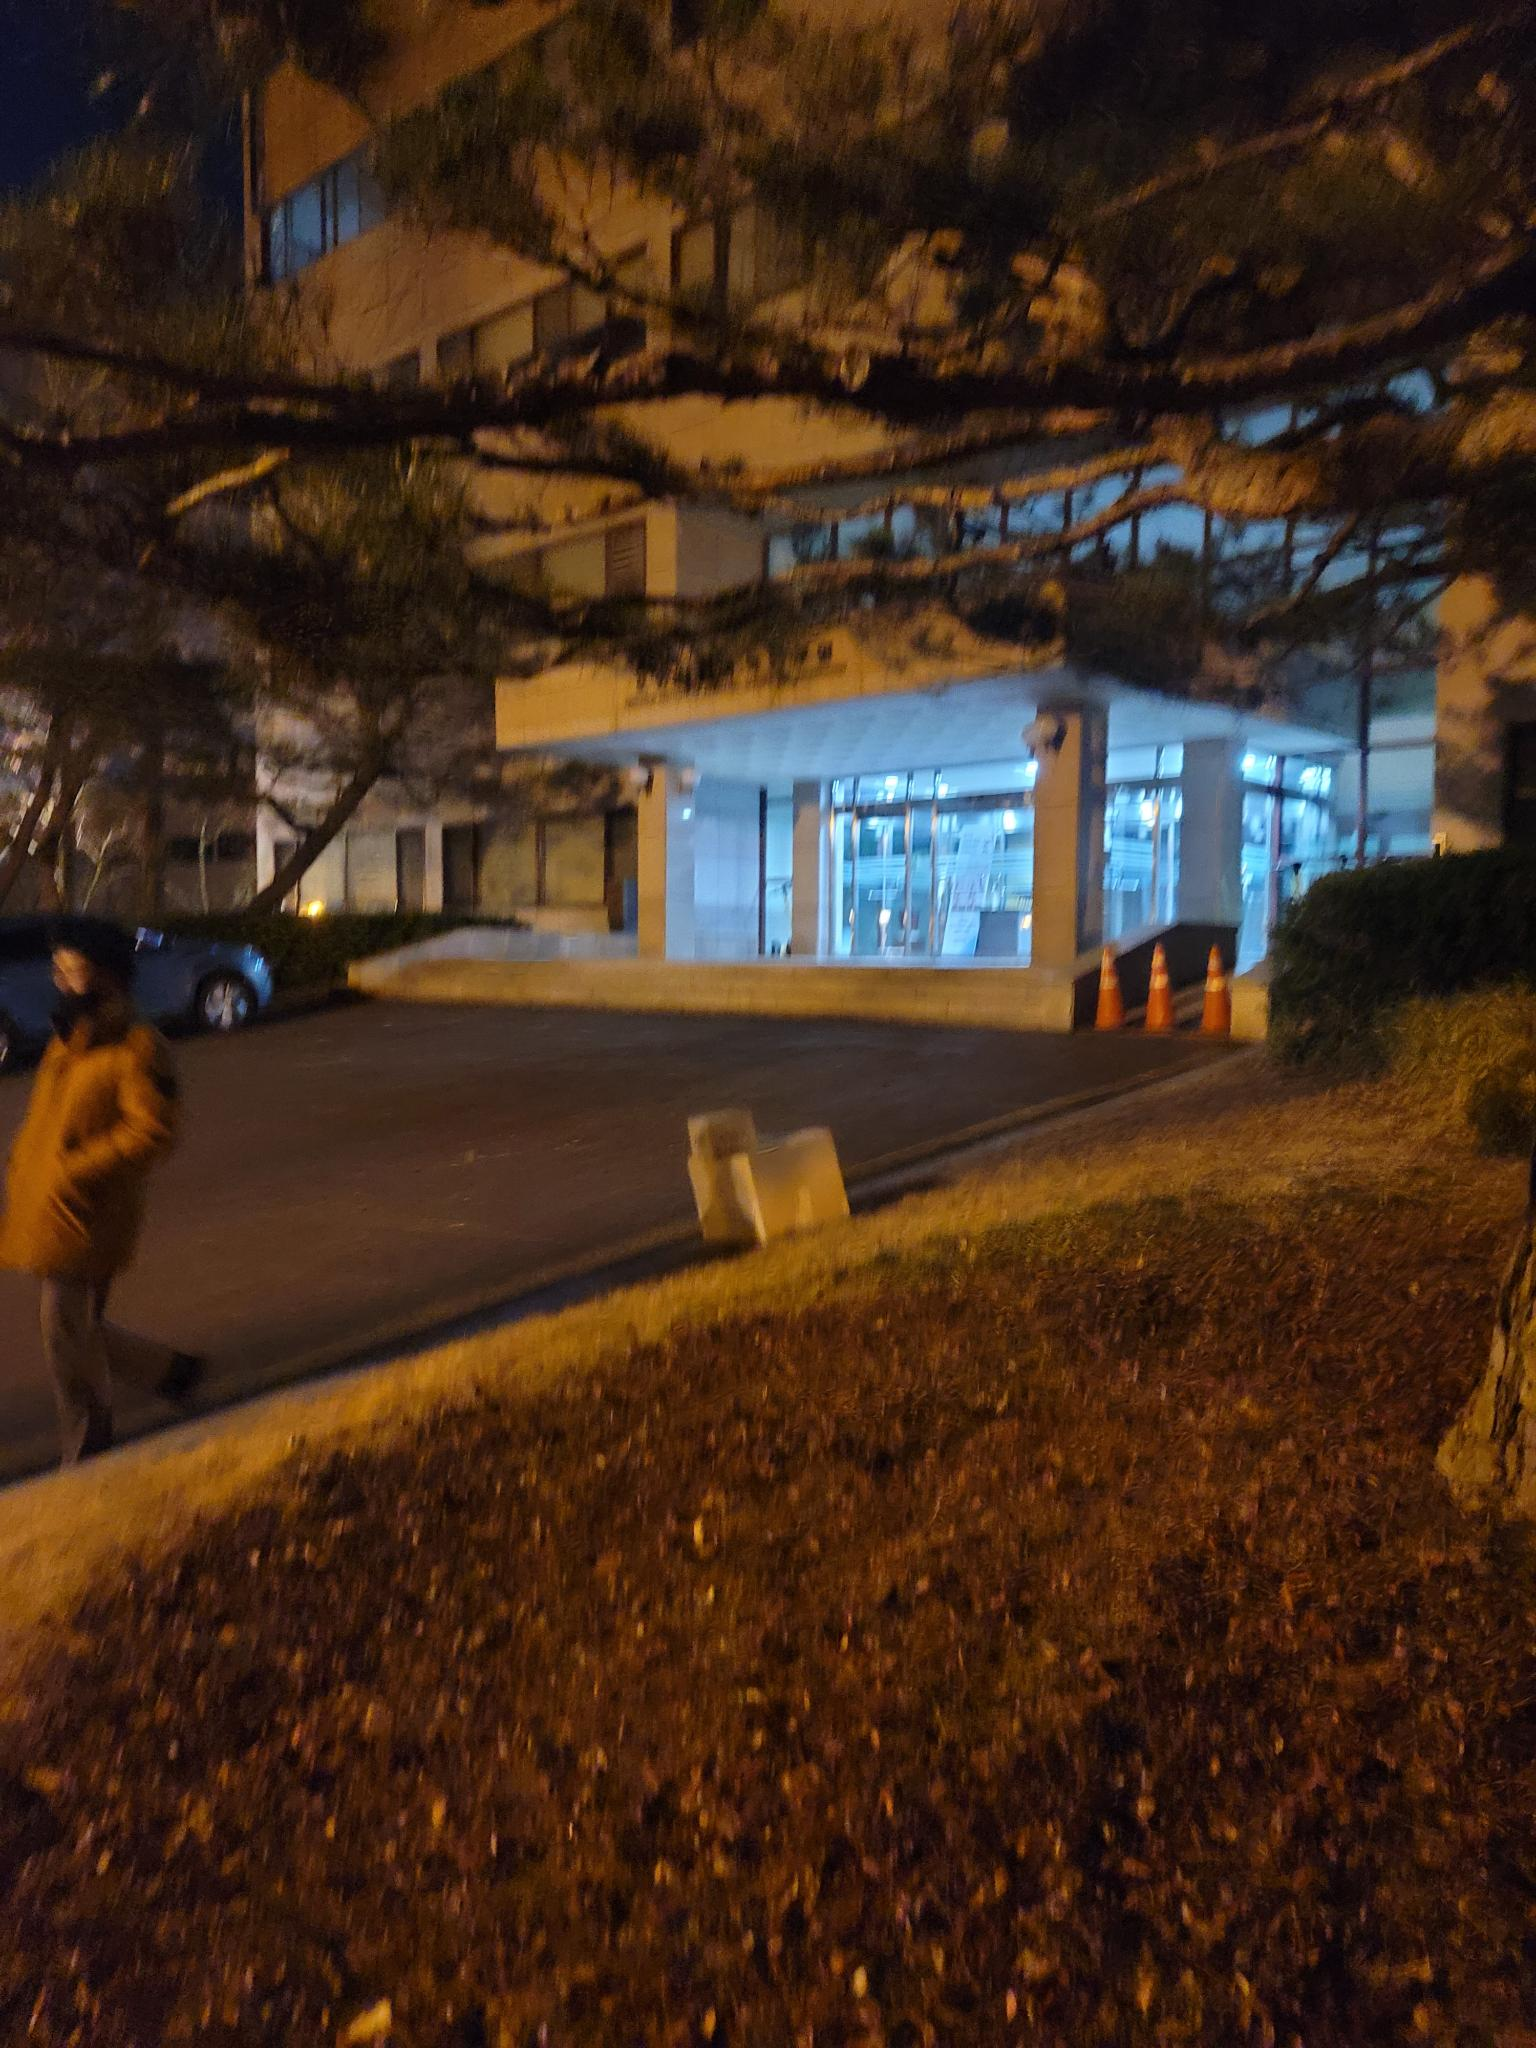Box: (666, 1129, 863, 1242), (676, 1106, 765, 1158)
